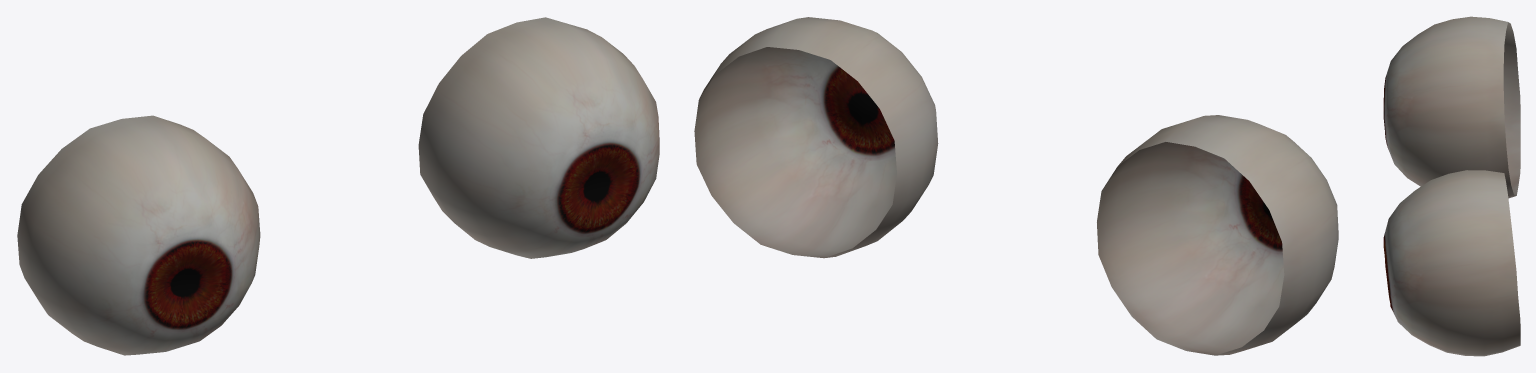
The model's file is eyes.gltf.
The picture shows the model from 3 angles, left to right: view 1: azimuth 30°, elevation 25°; view 2: azimuth 150°, elevation 25°; view 3: azimuth 270°, elevation 25°; orthographic projection. The views are drawn at different scales.
Visible parts, largest first — view 1: eyes; view 2: eyes; view 3: eyes.
Part boxes in pixels (bbox=[...]): eyes: bbox=[17, 17, 659, 355]; eyes: bbox=[694, 17, 1338, 355]; eyes: bbox=[1383, 16, 1520, 356].
Bounding box in the file's own units: 0.0895 × 0.0306 × 0.0244.
1 material, 1 textured.
